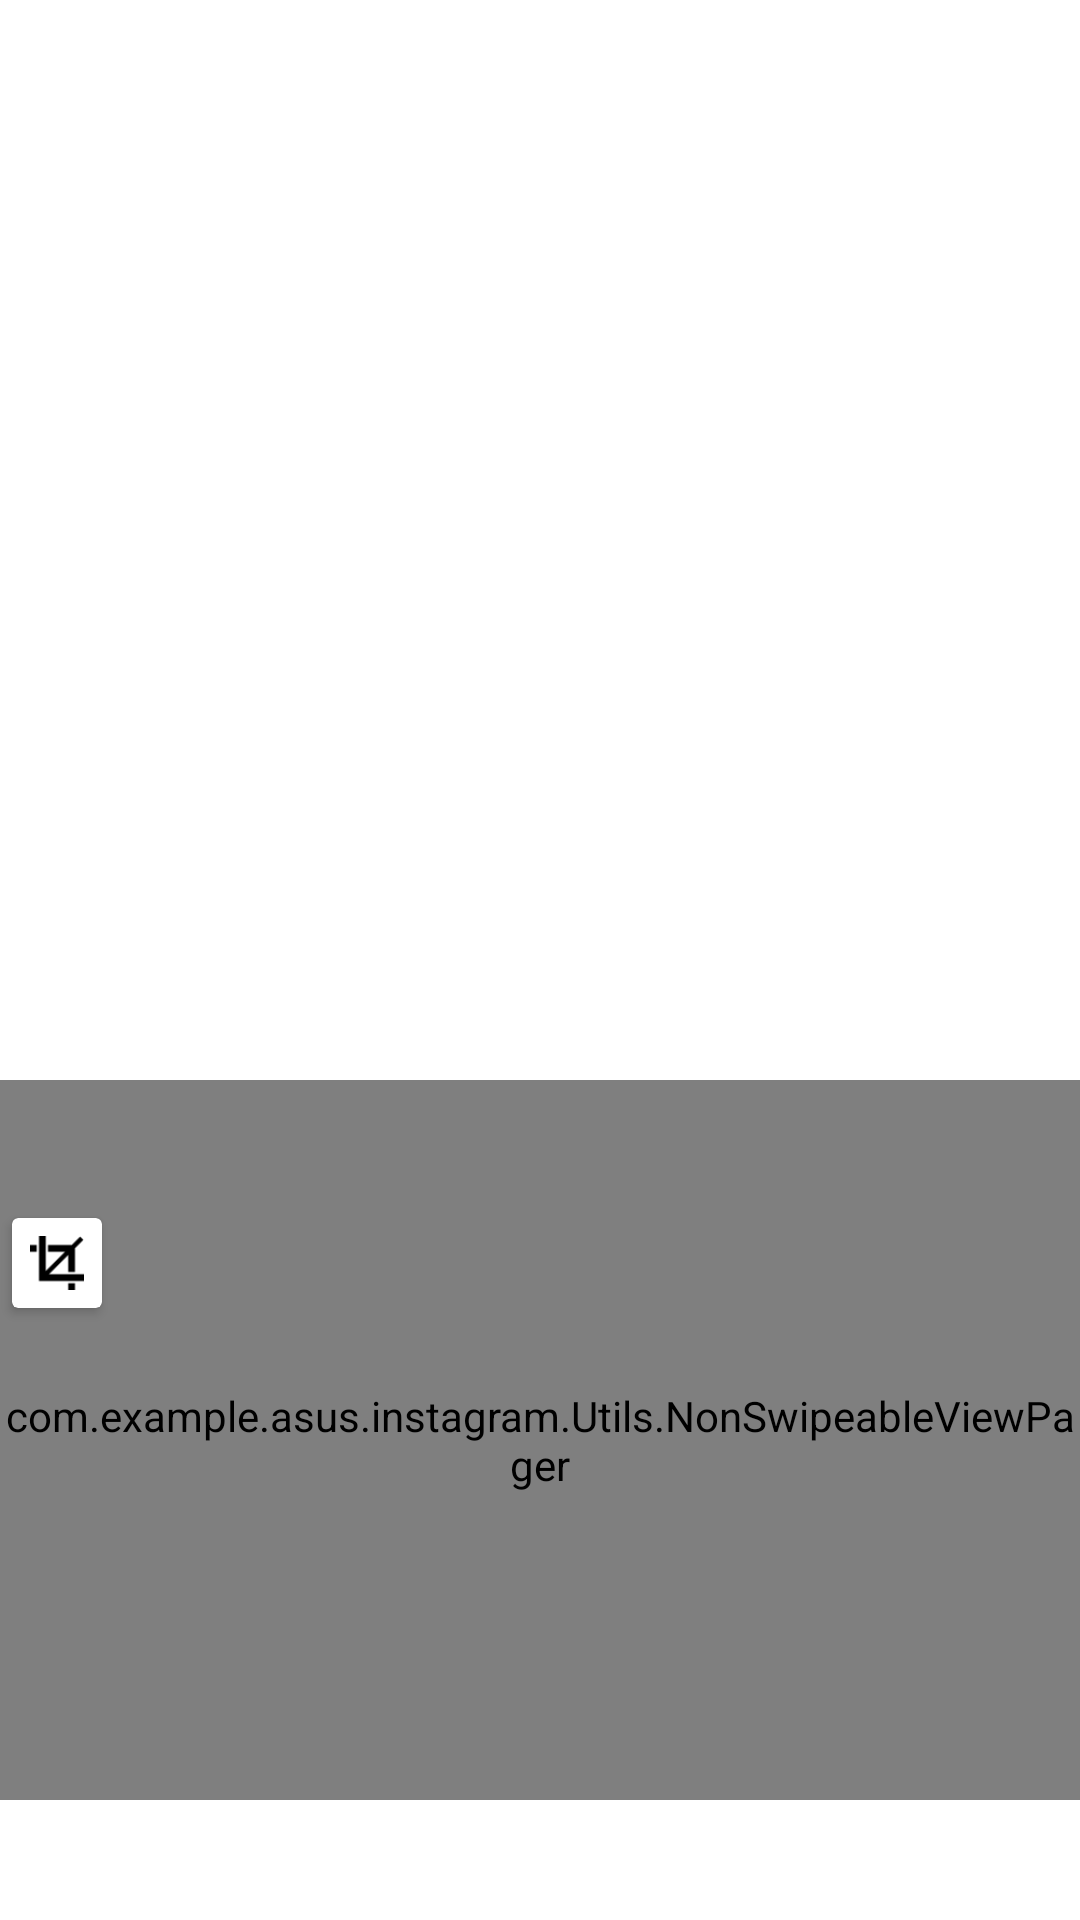

Icon click points for this 1080px x 1920px phone screenshot, format (x,y):
crop: (57,1263)
